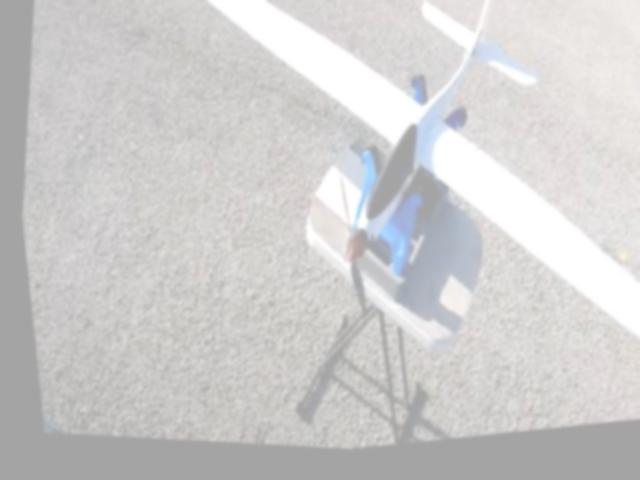iha: (134, 0, 640, 426)
